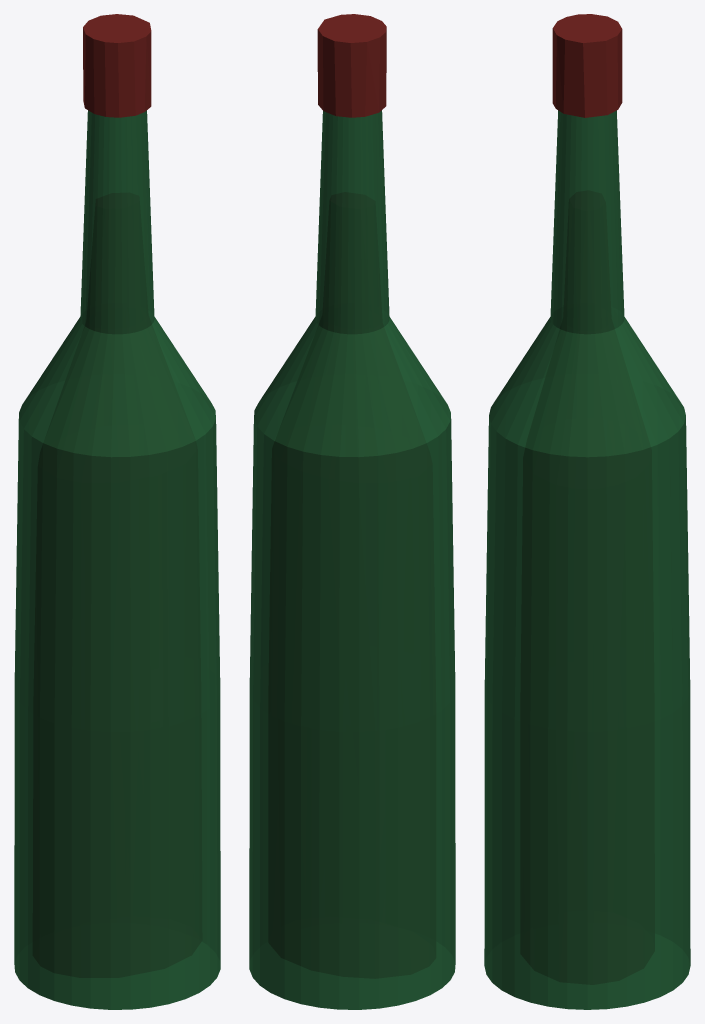
The model's file is Kitchen_SmallProps_Winebottle.fbx.
3 renders of one model, left to right at view 1: azimuth 30°, elevation 25°; view 2: azimuth 150°, elevation 25°; view 3: azimuth 270°, elevation 25°, orthographic.
Visible parts, largest first — view 1: WineBottle, Cork; view 2: WineBottle, Cork; view 3: WineBottle, Cork.
Boxes of the visible parts, x1=… form: WineBottle: x1=14, y1=110, x2=220, y2=1009; Cork: x1=83, y1=14, x2=151, y2=117; WineBottle: x1=249, y1=110, x2=455, y2=1009; Cork: x1=317, y1=14, x2=386, y2=117; WineBottle: x1=484, y1=110, x2=690, y2=1009; Cork: x1=552, y1=14, x2=622, y2=117.
Bounding box in the file's own units: 7.53 × 37.67 × 7.5.
